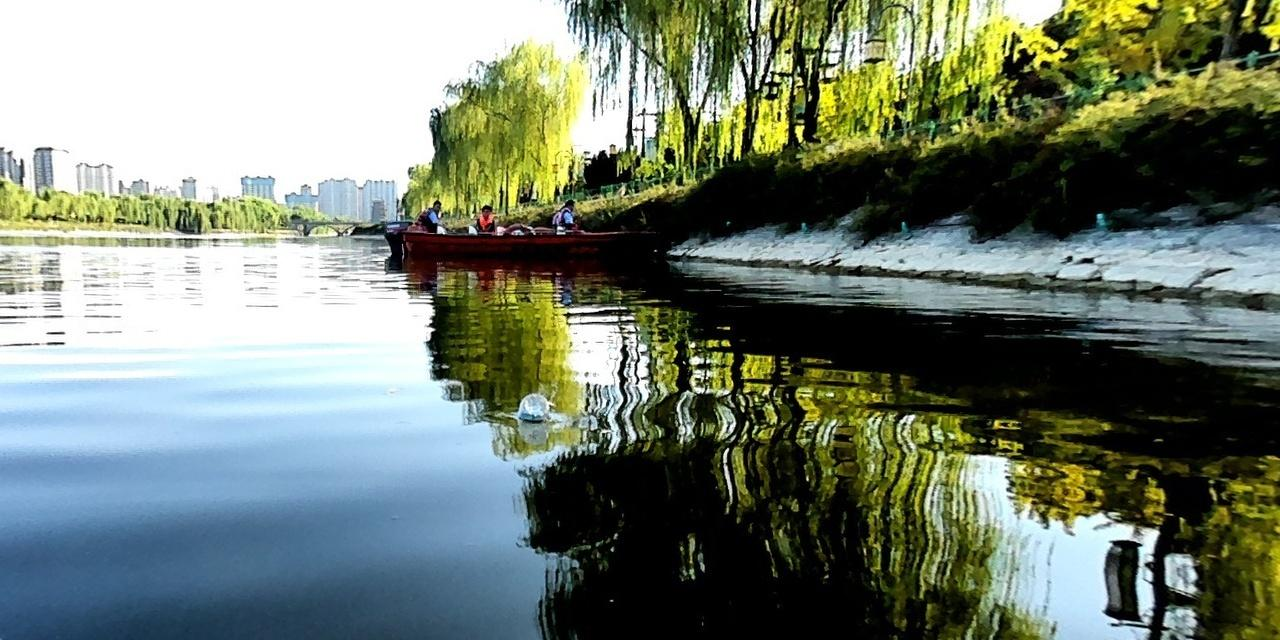bottle: (514, 388, 552, 424)
